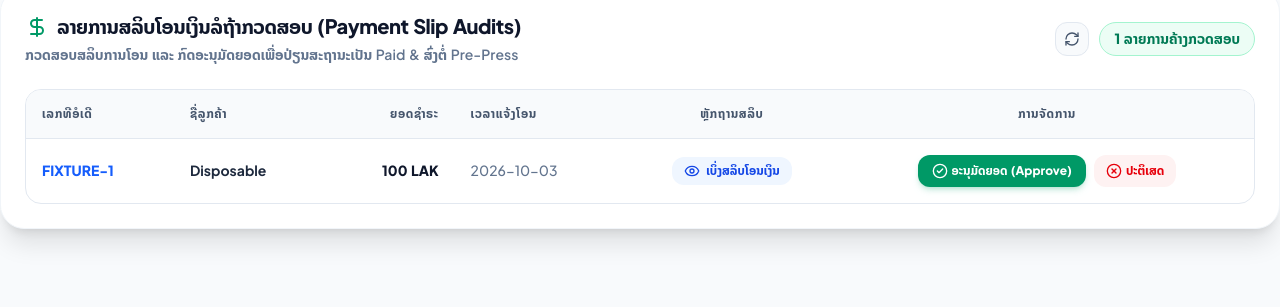
Test case: HTTP200 malformed/mismatched result cannot remove row 0
The image size is (1280, 307).
Click the button "ອະນຸມັດຍອດ (Approve)": (1002, 171) [918,155,1086,187]
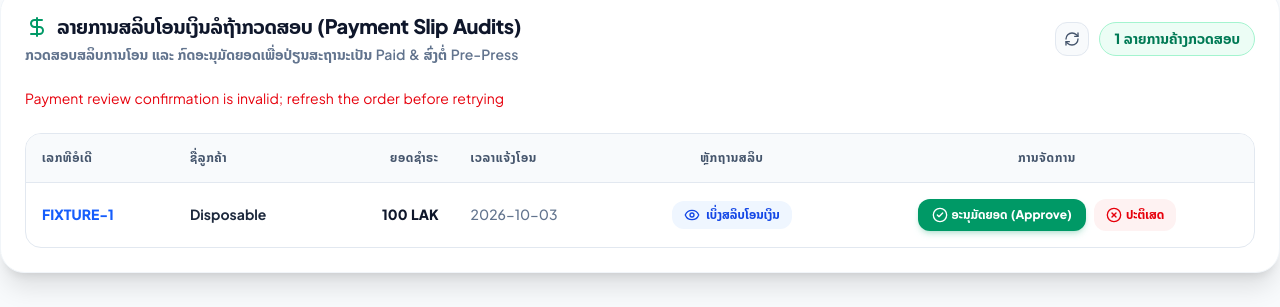
Expected: the table shows "FIXTURE-1", [42,203,114,226]
Expected: the message "Payment review confirmation is invalid; refresh the order before retrying" is shown, [25,87,504,110]
